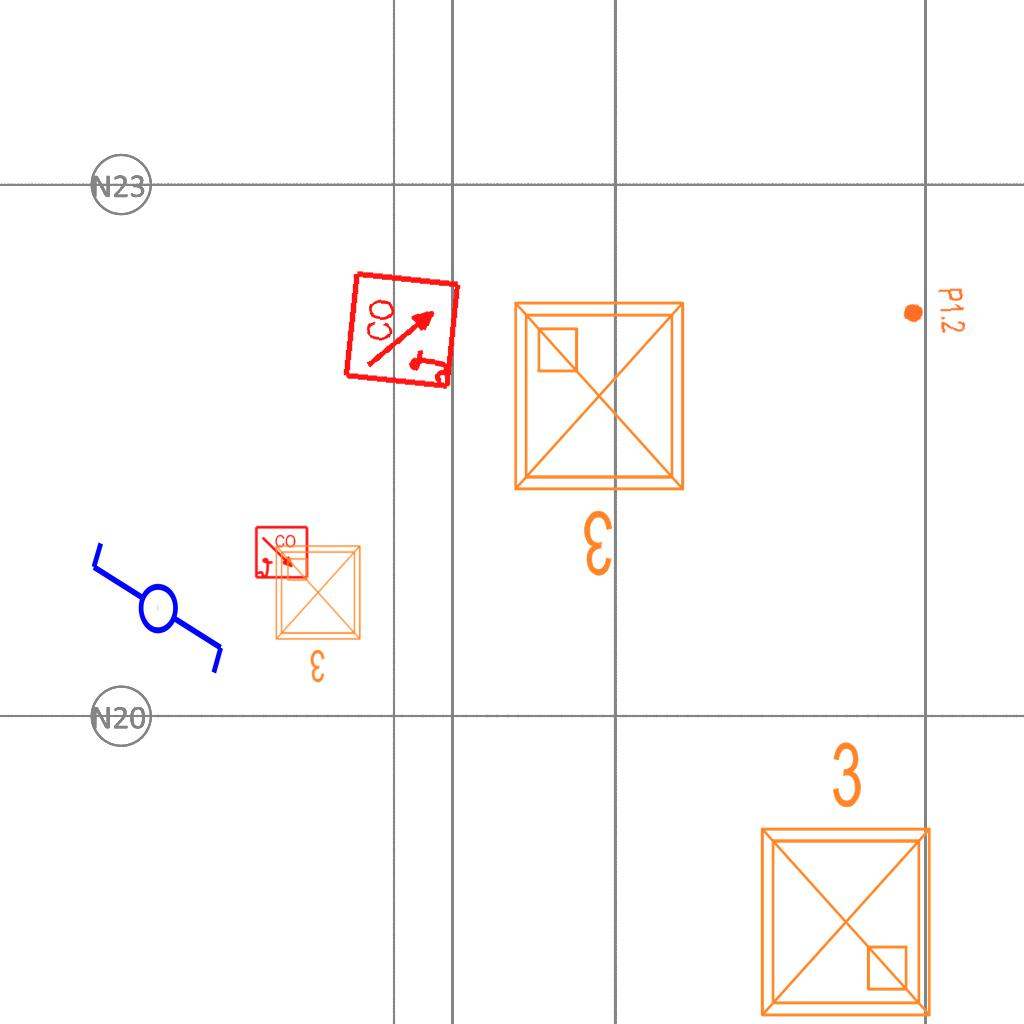Downlight_LED_Einbauleuchten_Flur: (900, 286, 968, 338)
Einbaudownlights_LED_Konferenzraeume: (499, 287, 707, 587), (738, 731, 946, 1024), (268, 538, 372, 688)
ROA_Rauchmelder_optisch_mit_Signalgeber_(Sockelsirene): (341, 267, 466, 392), (254, 525, 310, 581)
Wechselschalter: (84, 538, 228, 695)
